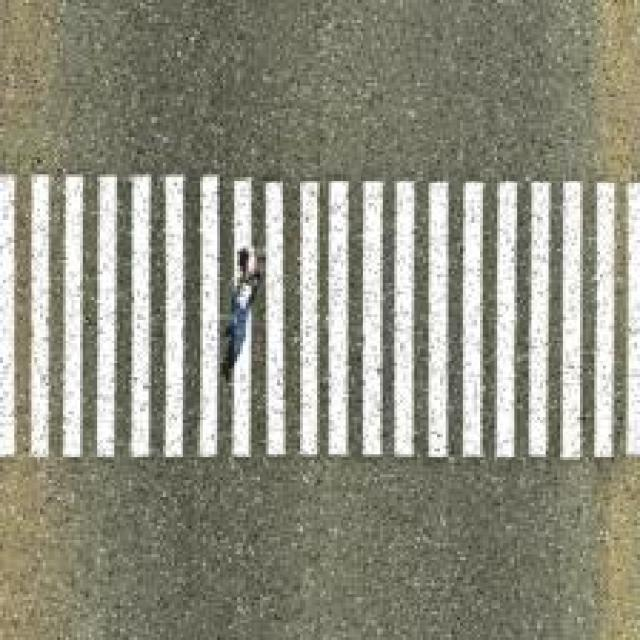crosswalk: (1, 171, 635, 462)
